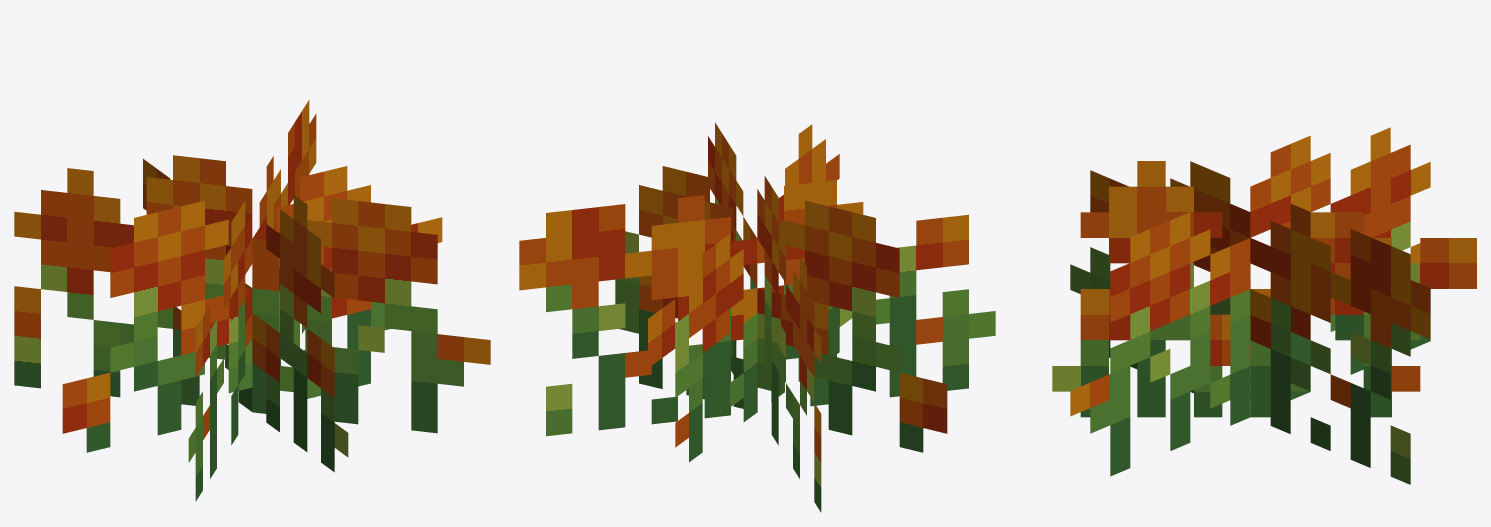
The model's file is MarigoldGrown.fbx.
3 renders of one model, left to right at view 1: azimuth 30°, elevation 25°; view 2: azimuth 150°, elevation 25°; view 3: azimuth 270°, elevation 25°, orthographic. The views are drawn at different scales.
Visible parts, largest first — view 1: plane; view 2: plane; view 3: plane.
Boxes of the visible parts, bbox=[...] form: plane: bbox=[14, 100, 490, 501]; plane: bbox=[519, 122, 995, 512]; plane: bbox=[1052, 127, 1476, 484].
Size of the model in its own units: 100 by 75 by 100.
1 material, 1 textured.
